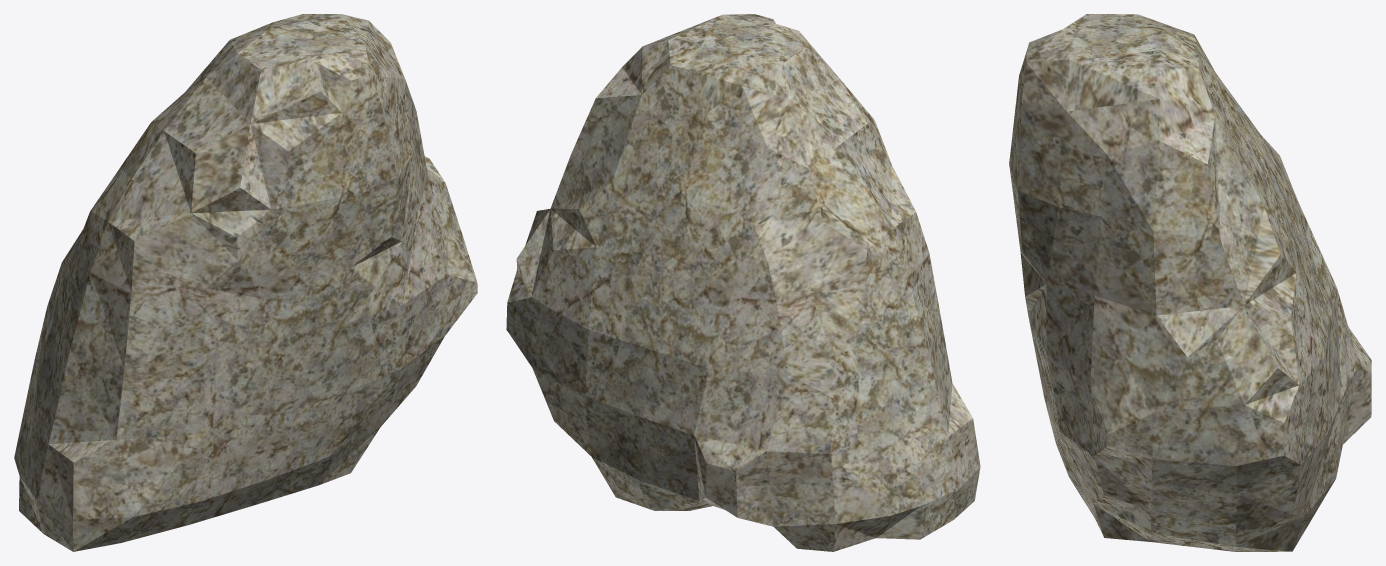
File: rock1.obj
The picture shows the model from 3 angles, left to right: view 1: azimuth 30°, elevation 25°; view 2: azimuth 150°, elevation 25°; view 3: azimuth 270°, elevation 25°; orthographic projection. The views are drawn at different scales.
Visible parts, largest first — view 1: Rock01v3_Rock_HP.004; view 2: Rock01v3_Rock_HP.004; view 3: Rock01v3_Rock_HP.004.
Boxes of the visible parts, x1,y1,x2,y2 form: Rock01v3_Rock_HP.004: [14, 14, 477, 551]; Rock01v3_Rock_HP.004: [506, 14, 980, 551]; Rock01v3_Rock_HP.004: [1009, 14, 1371, 551].
Bounding box in the file's own units: 50.5 × 50.03 × 33.74.
